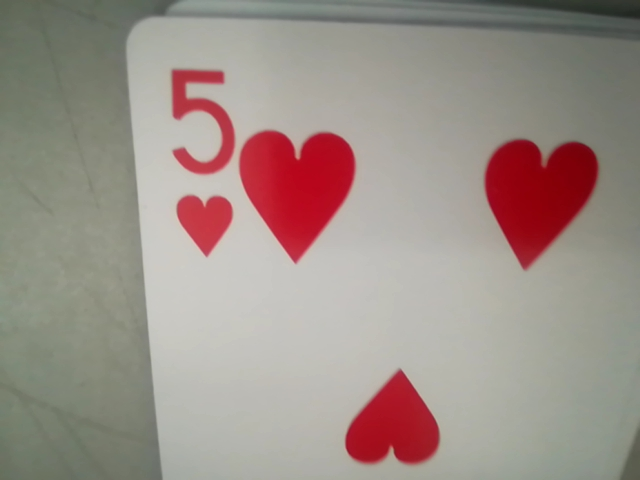hx 5: (148, 69, 238, 261)
